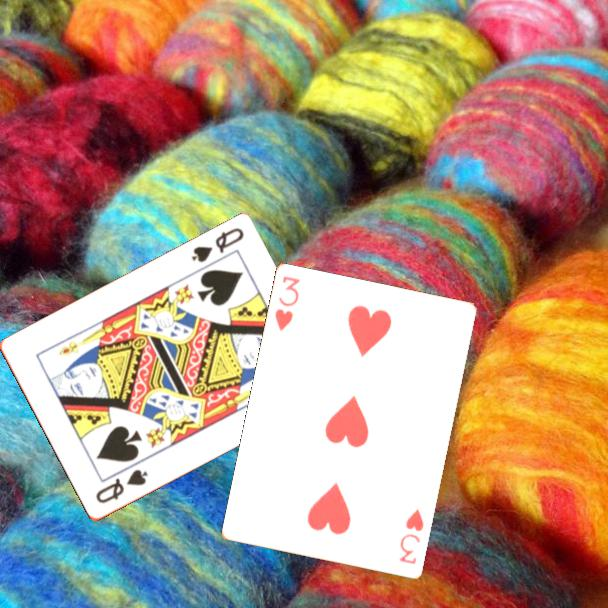h03: (271, 273, 303, 334), (396, 506, 427, 567)
s12: (187, 225, 247, 266), (92, 466, 151, 507)
